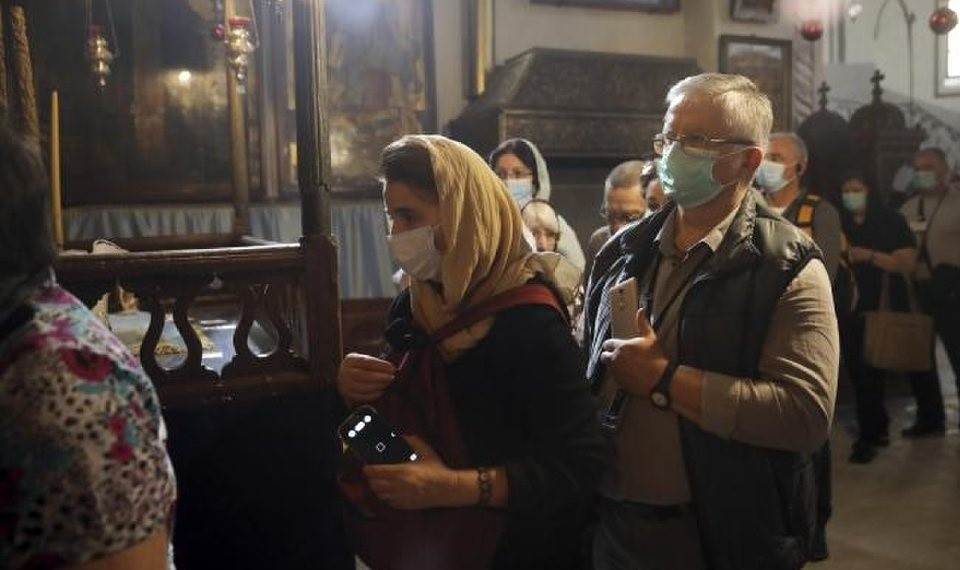face_with_mask: (383, 140, 494, 289), (656, 78, 764, 211), (491, 135, 549, 204), (754, 130, 807, 192), (910, 143, 952, 194), (838, 172, 879, 220)
